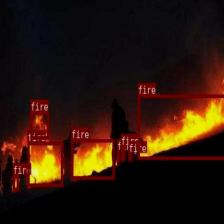fire: (137, 93, 224, 159), (71, 138, 114, 178), (27, 141, 63, 186), (30, 111, 49, 139), (12, 174, 19, 190), (121, 145, 124, 160), (116, 150, 119, 164), (128, 152, 131, 161)
